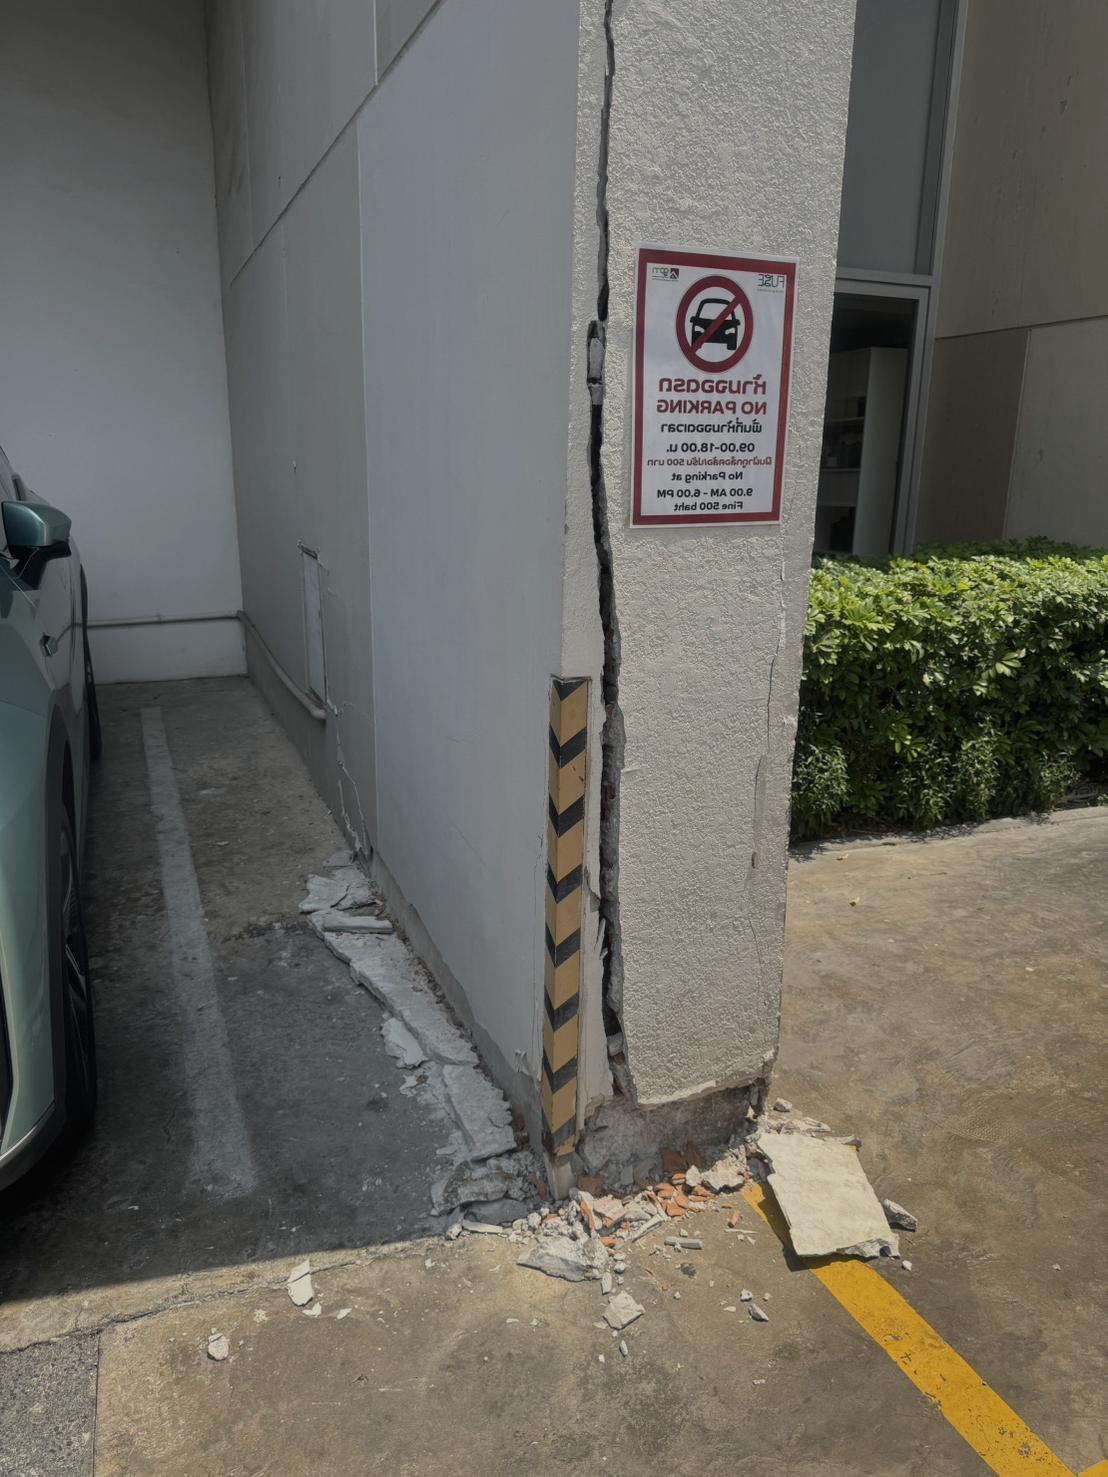High: (492, 6, 767, 1174)
